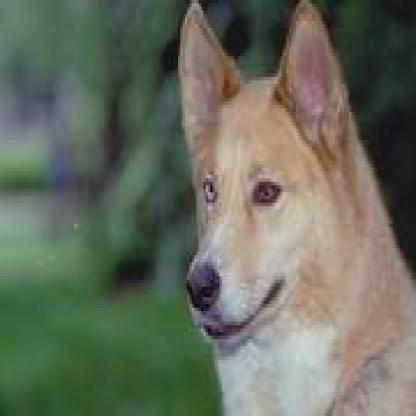Eskimo_dog: (141, 0, 411, 409)
